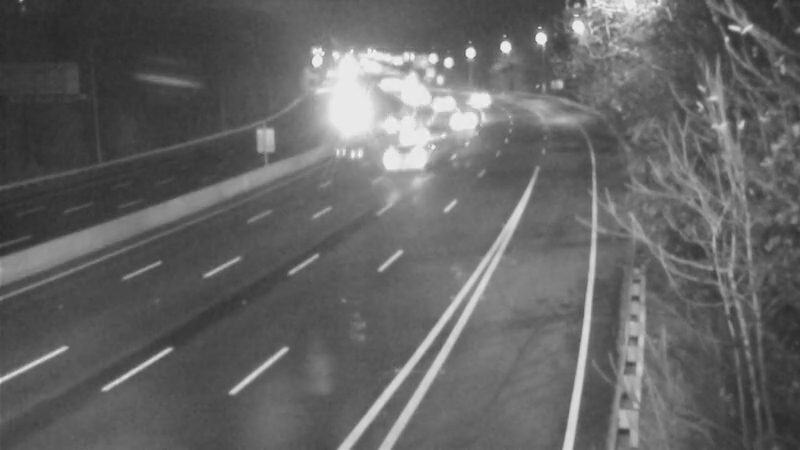vehicle: (370, 118, 450, 198), (451, 72, 501, 122), (412, 75, 462, 125), (438, 93, 488, 143), (372, 92, 422, 142), (396, 108, 446, 158)
